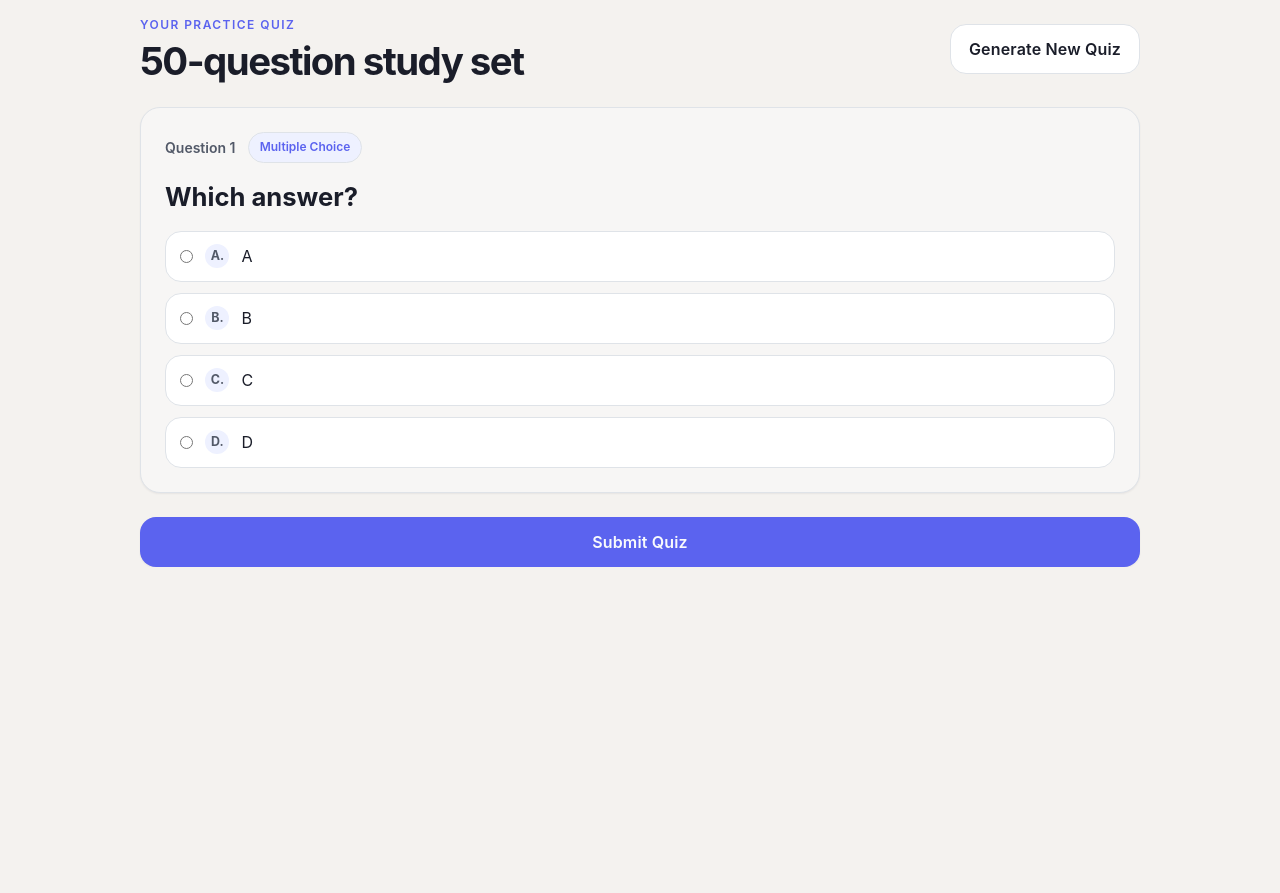
Test: Quiz UI › resets answers and grading state with Generate New Quiz
This screenshot has width=1280, height=893.
Click the radio button labelled "B. B".
click(187, 318)  # box [180, 312, 193, 325]
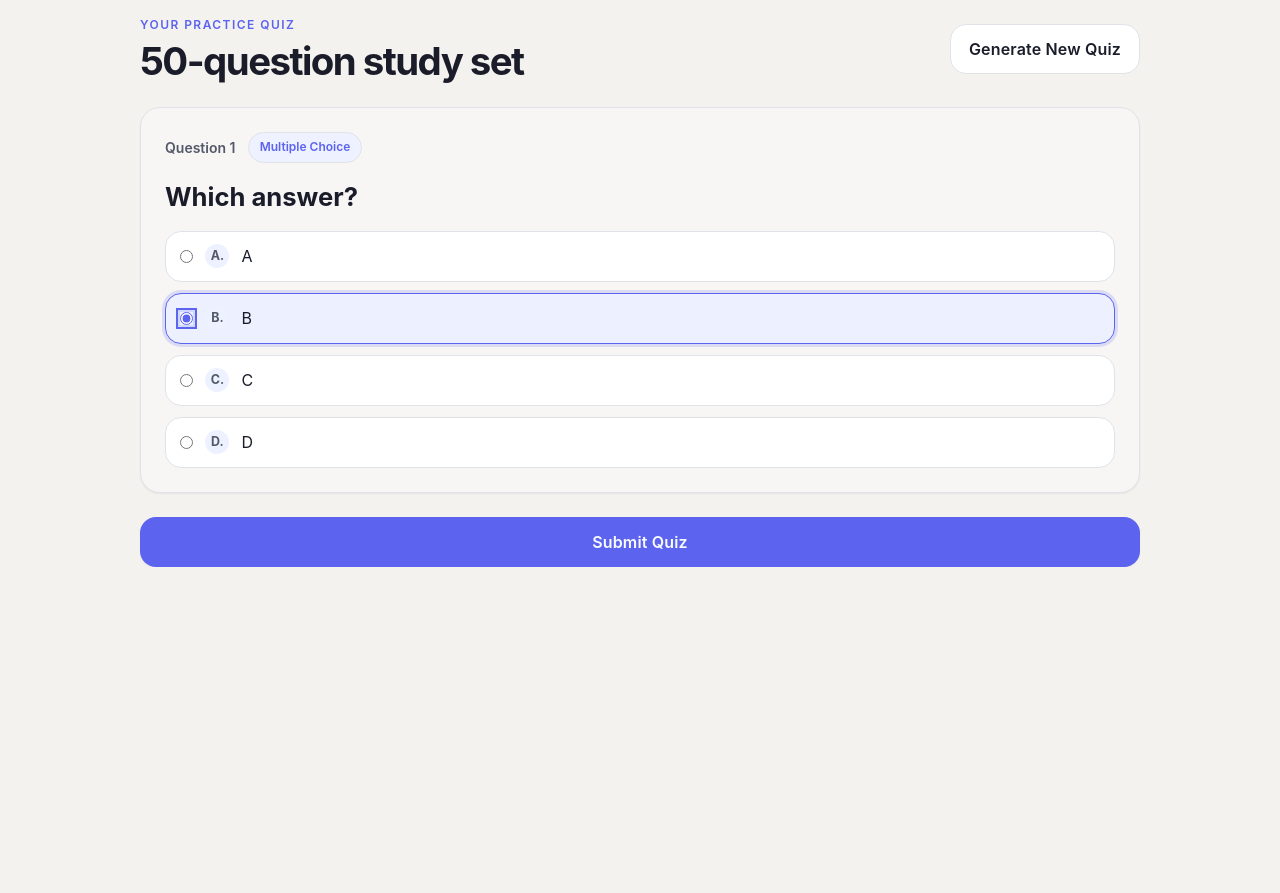
Click the button "Submit Quiz".
click(640, 542)  # box [140, 517, 1140, 567]
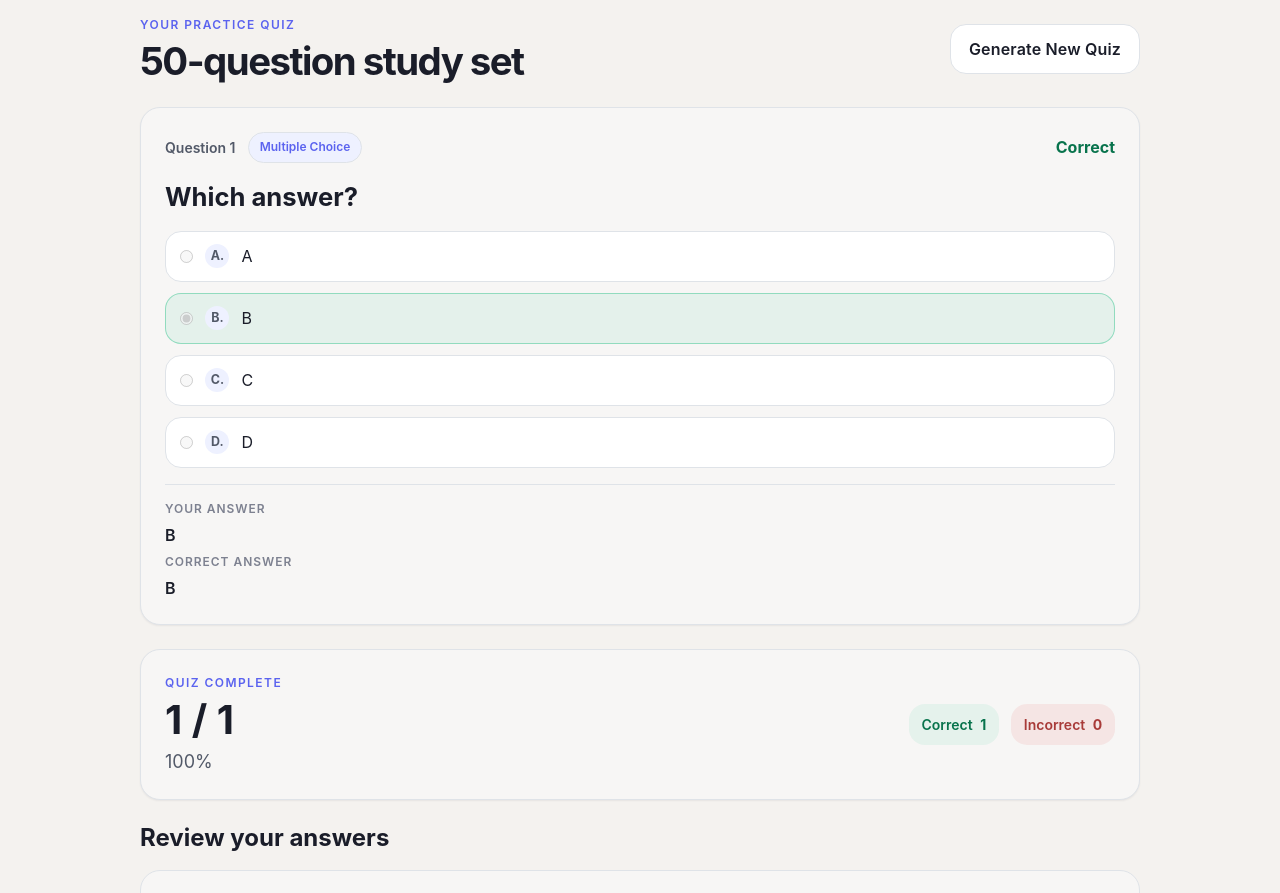
Click the button "Generate New Quiz".
click(1045, 49)  # box [950, 24, 1140, 74]
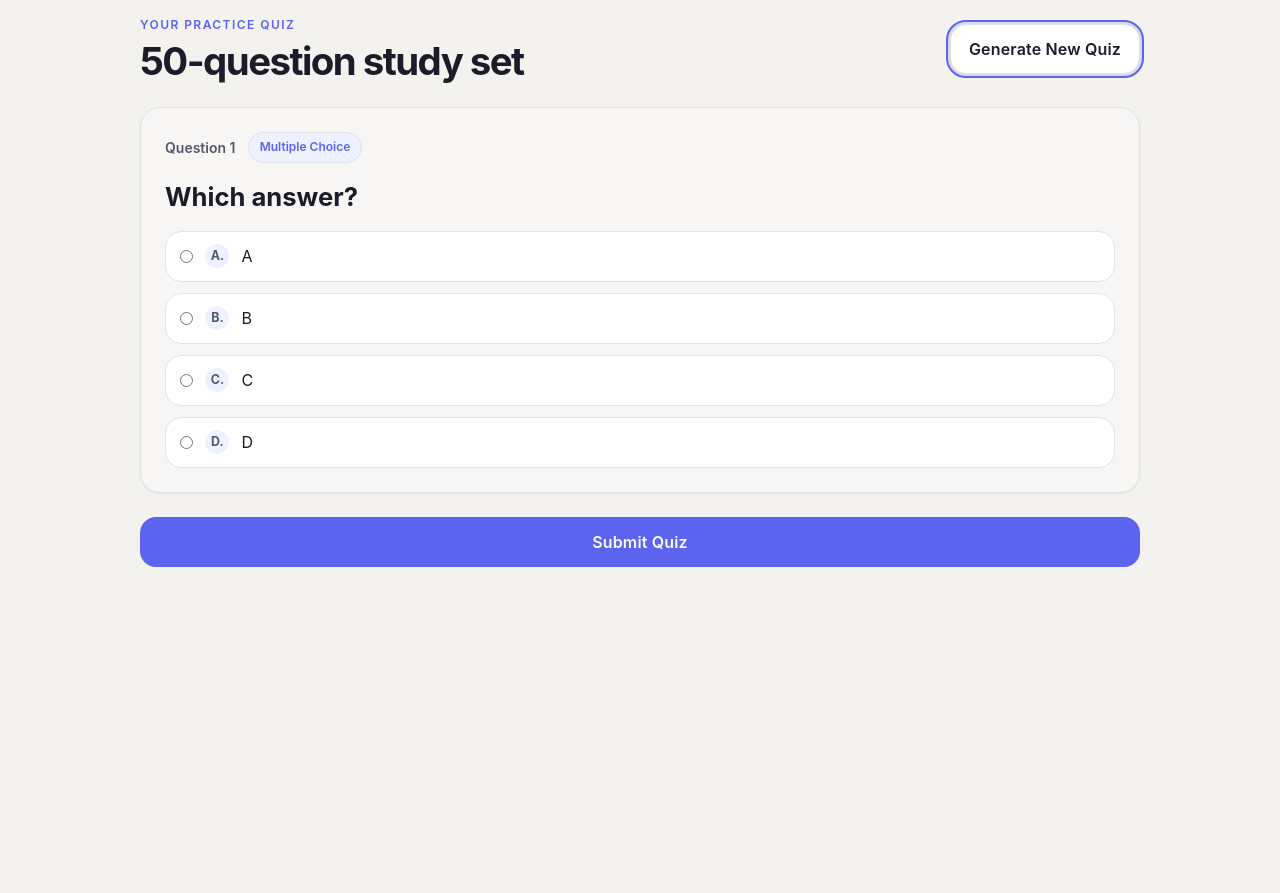
Now the text "100%" is gone
